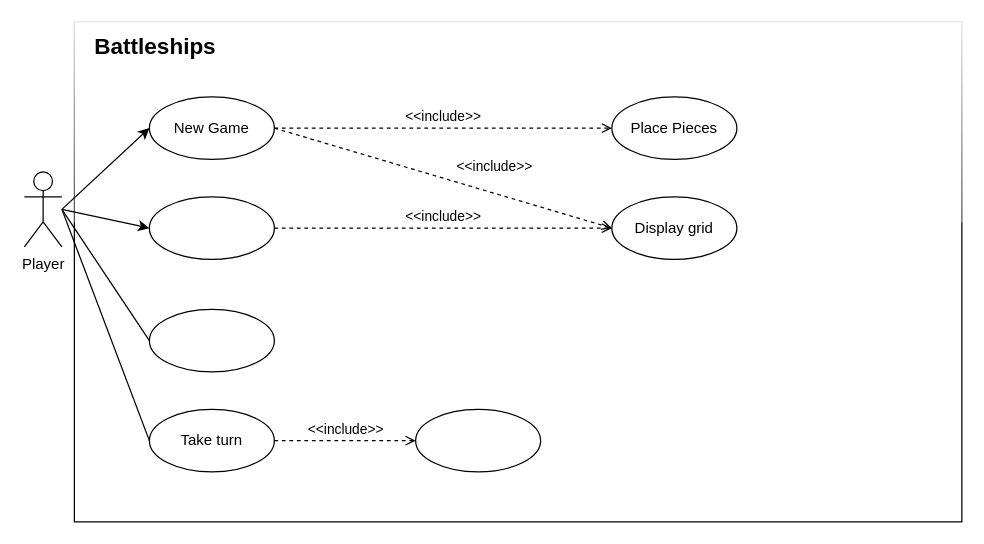
The diagram is 984 pixels wide and 544 high, and some of its shapes have lost their labels. Here are the shapes that lost their labels. From the top down, the box of each, then its label:
(148, 196, 274, 259): Continue
(148, 308, 274, 372): Quit
(414, 408, 541, 472): Choose Target
